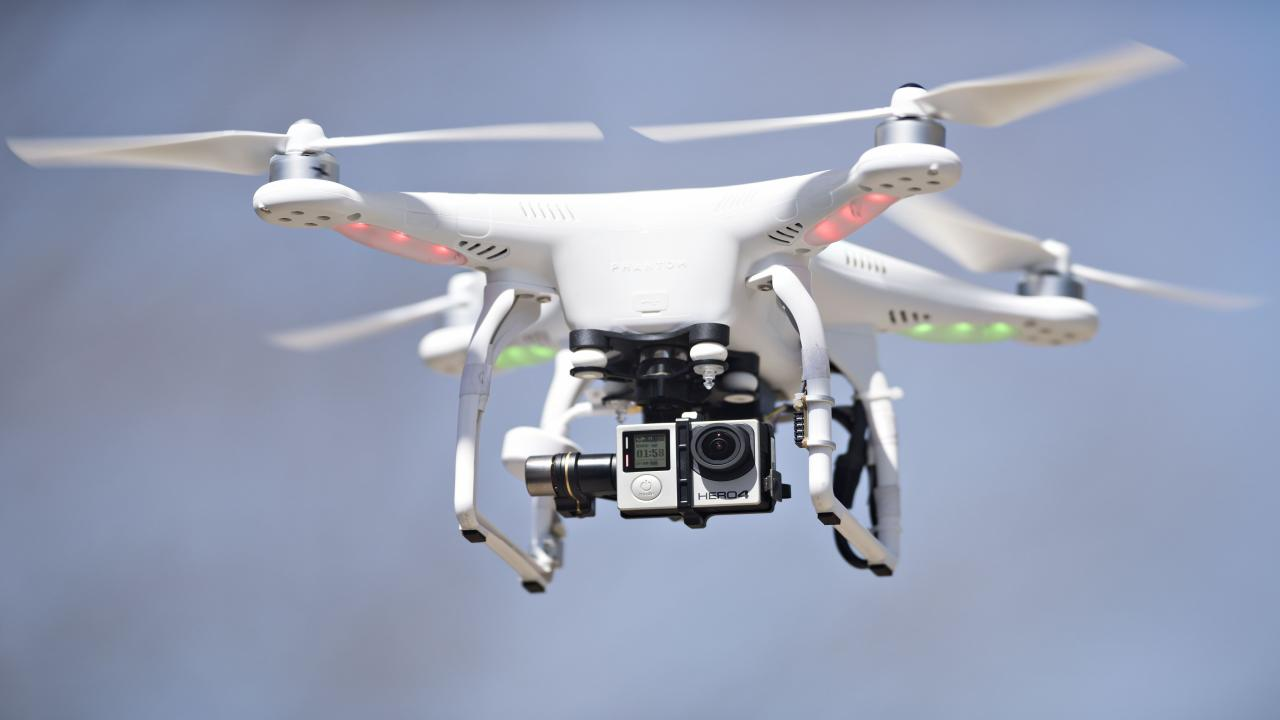Drone: (0, 38, 1280, 602)
